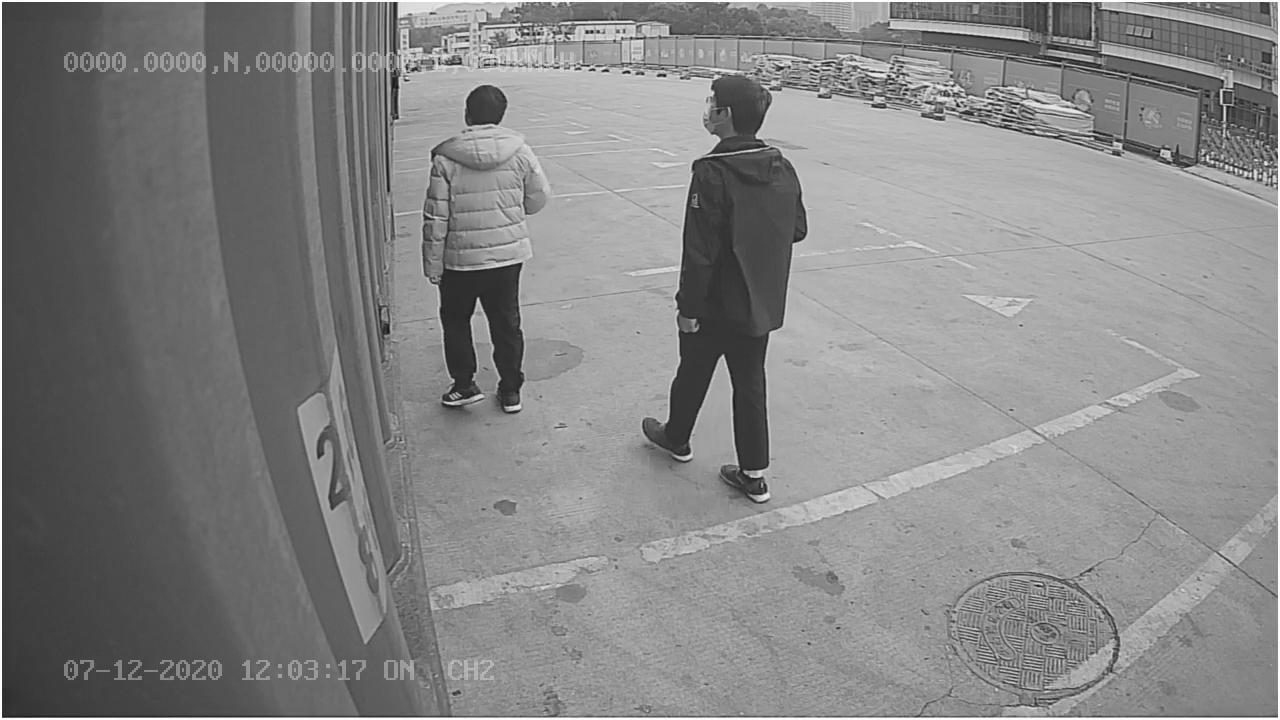person: (640, 69, 817, 506), (422, 71, 552, 415)
